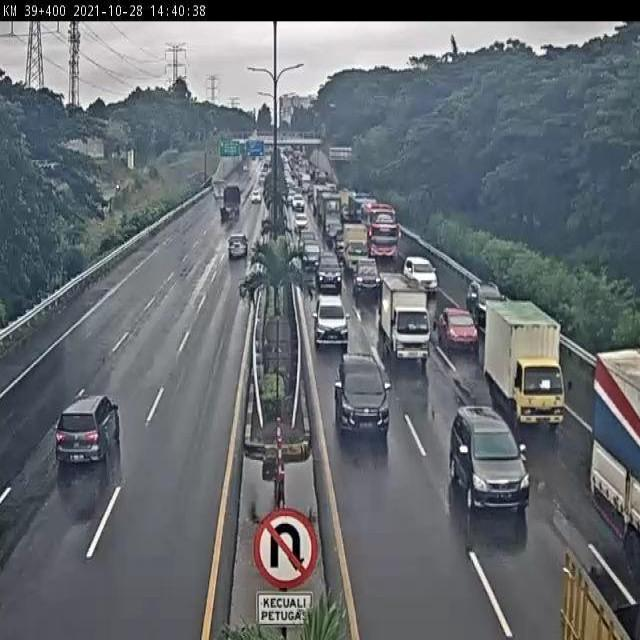car: (449, 405, 529, 515), (54, 393, 120, 460), (335, 354, 390, 426), (313, 293, 350, 347), (436, 306, 479, 346), (403, 253, 440, 296), (465, 278, 500, 314), (313, 250, 344, 290), (352, 258, 381, 294), (223, 233, 250, 264)
truck-m-: (484, 294, 563, 429)
truck-s-: (378, 268, 429, 357)
